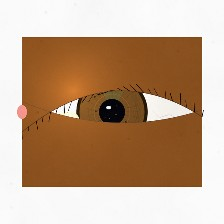pinguecula_lesion: (44, 100, 91, 137)
